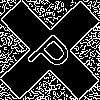P: (25, 25, 81, 81)
